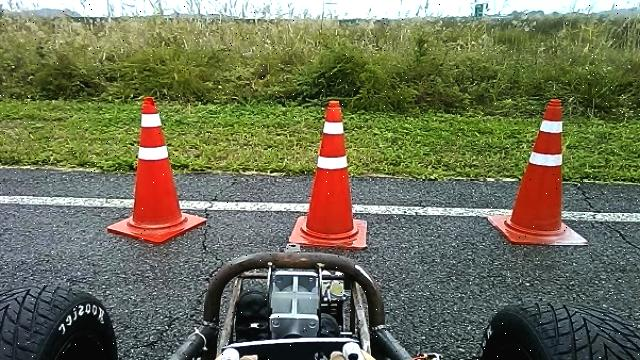red cone: (106, 96, 208, 244), (488, 97, 589, 246), (288, 99, 369, 250)
